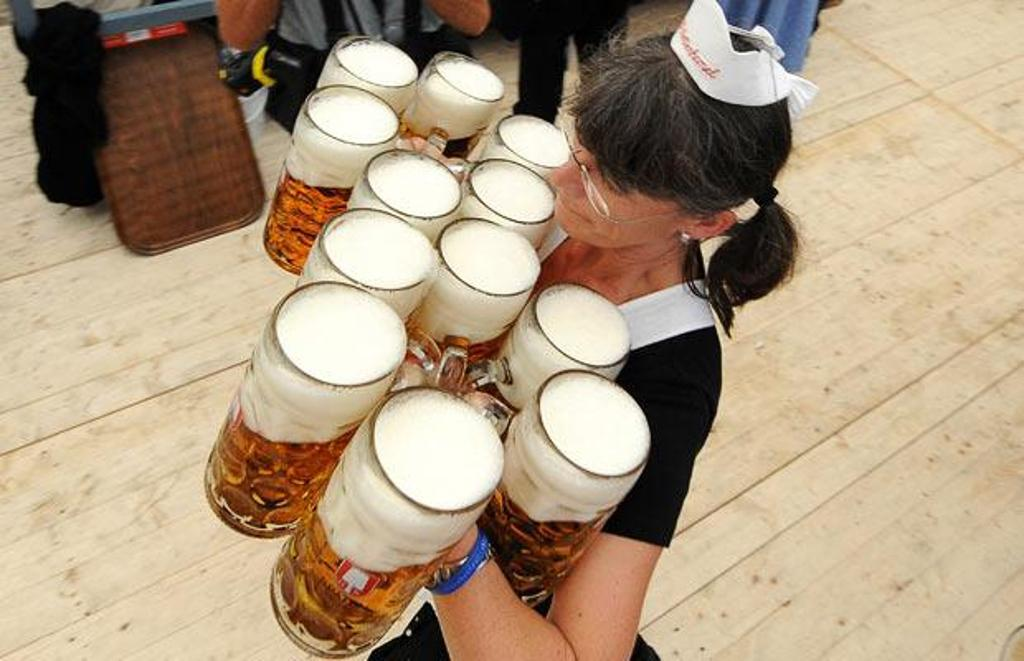face: (553, 93, 685, 243)
